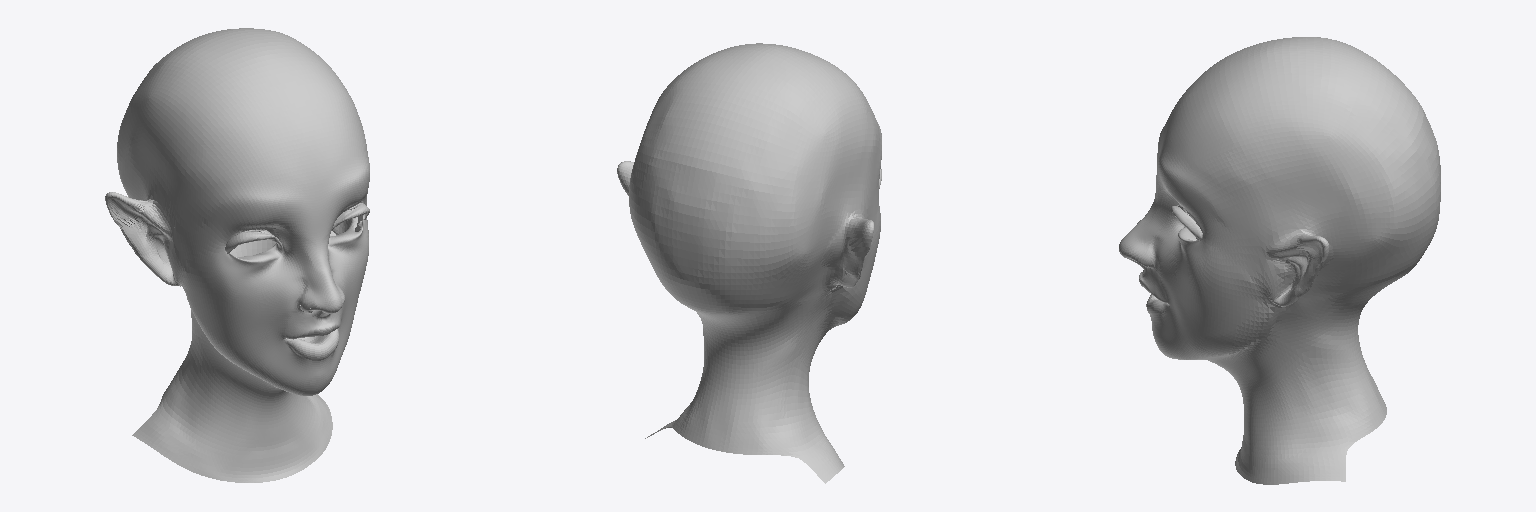
File: Mouth open.OBJ
The picture shows the model from 3 angles: view 1: azimuth 30°, elevation 25°; view 2: azimuth 150°, elevation 25°; view 3: azimuth 270°, elevation 25°; orthographic projection.
Visible parts, largest first — view 1: Group1; view 2: Group1; view 3: Group1.
Boxes of the visible parts, x1=… form: Group1: x1=105, y1=28, x2=369, y2=482; Group1: x1=617, y1=43, x2=881, y2=483; Group1: x1=1119, y1=37, x2=1440, y2=484.
Size of the model in its own units: 2.04 by 3.17 by 2.23.